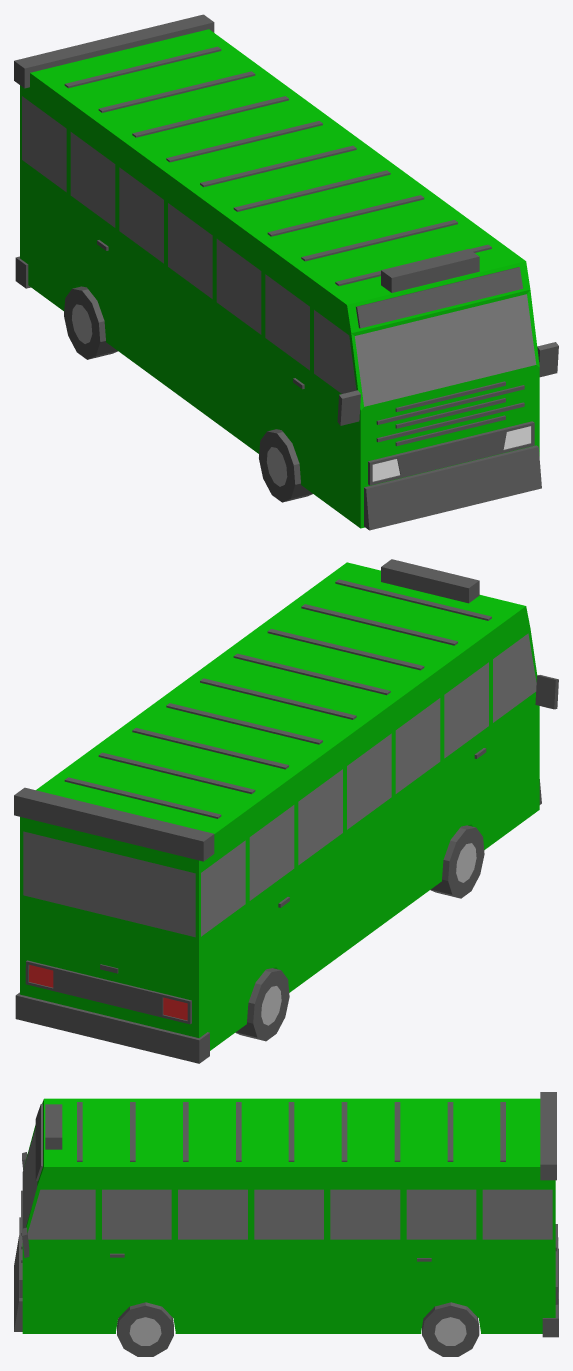
Rendered from SM_Bus_01_05.FBX.
3 renders of one model, top to bottom at view 1: azimuth 30°, elevation 25°; view 2: azimuth 150°, elevation 25°; view 3: azimuth 270°, elevation 25°, orthographic. The views are drawn at different scales.
Parts seen in each view (by area): view 1: SM_Bus_01_05, SM_Wheel_LFront001, SM_Wheel_RBack001; view 2: SM_Bus_01_05, SM_Wheel_RBack001, SM_Wheel_LFront001; view 3: SM_Bus_01_05, SM_Wheel_LBack001, SM_Wheel_LFront002.
Part boxes in pixels (x1,y1,x2,y2): SM_Bus_01_05: [14, 14, 558, 530]; SM_Wheel_LFront001: [259, 429, 312, 502]; SM_Wheel_RBack001: [64, 286, 117, 359]; SM_Bus_01_05: [14, 559, 558, 1063]; SM_Wheel_RBack001: [235, 968, 289, 1041]; SM_Wheel_LFront001: [430, 825, 484, 898]; SM_Bus_01_05: [14, 1092, 558, 1337]; SM_Wheel_LBack001: [422, 1302, 479, 1356]; SM_Wheel_LFront002: [117, 1302, 173, 1356].
Bounding box in the file's own units: 1.7 × 1.91 × 4.73.
Materials: 1 (1 with a texture image).
